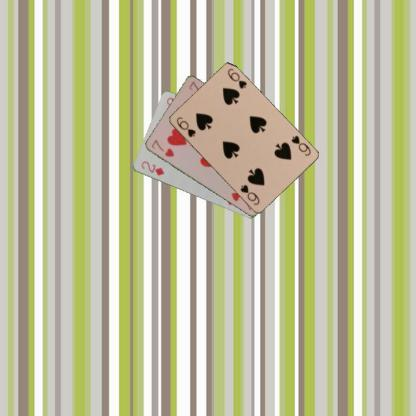2d: (138, 158, 165, 177)
6s: (288, 133, 312, 157), (174, 114, 197, 138)
7h: (148, 137, 176, 158)
